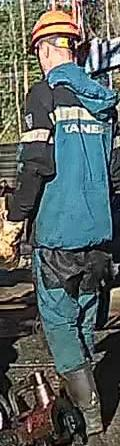gloves: (0, 209, 26, 270)
helmet: (30, 10, 81, 51)
vest: (18, 83, 120, 250)
